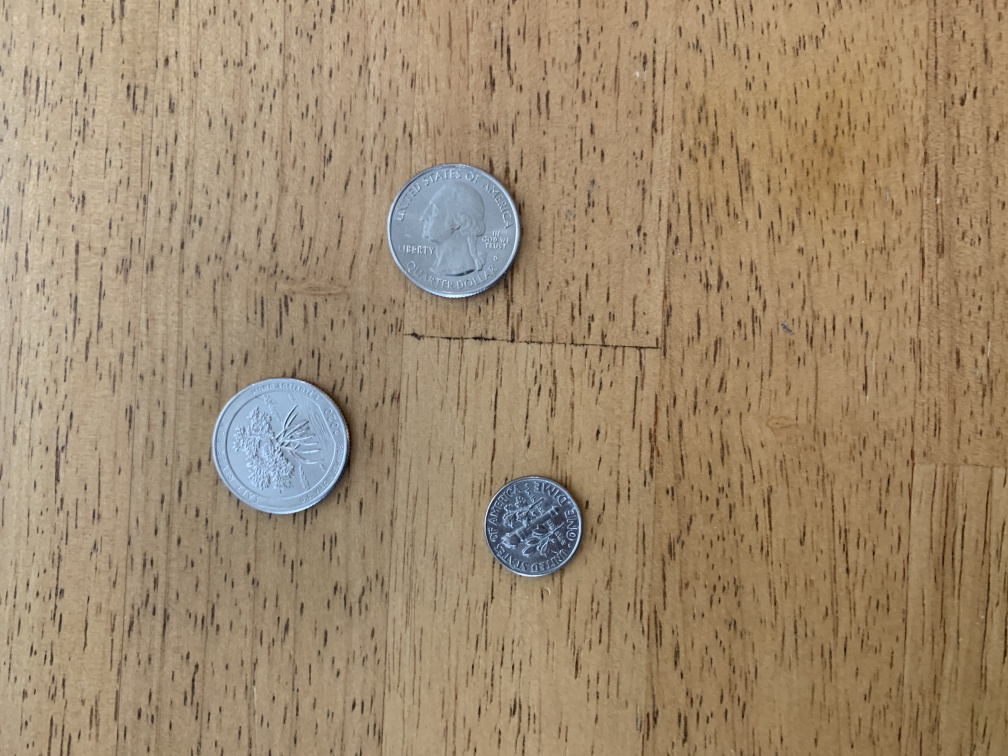dime: (483, 471, 585, 581)
quarter: (383, 157, 528, 308), (207, 373, 352, 517)
